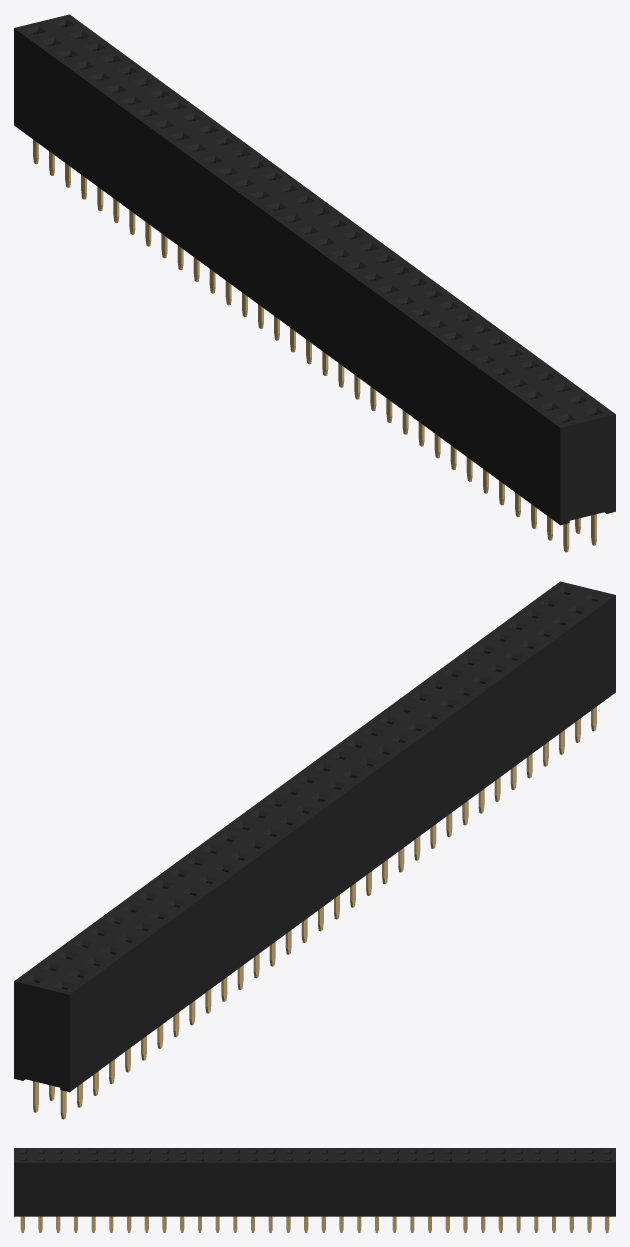
File: kc-pinsocket_2x34_p2.54mm_vertical.glb
3 renders of one model, top to bottom at view 1: azimuth 30°, elevation 25°; view 2: azimuth 150°, elevation 25°; view 3: azimuth 270°, elevation 25°, orthographic. The views are drawn at different scales.
Parts seen in each view (by area): view 1: 0_0_0_0, 0.75_0.5_0.25_0.9; view 2: 0_0_0_0, 0.75_0.5_0.25_0.9; view 3: 0_0_0_0, 0.75_0.5_0.25_0.9.
Part boxes in pixels (x1,y1,x2,y2): 0_0_0_0: (14,14,615,525); 0.75_0.5_0.25_0.9: (33,139,596,552); 0_0_0_0: (14,581,615,1092); 0.75_0.5_0.25_0.9: (33,706,596,1119); 0_0_0_0: (14,1148,615,1216); 0.75_0.5_0.25_0.9: (20,1216,609,1232).
Bounding box in the file's own units: 0.5081 × 1.16 × 8.64.
